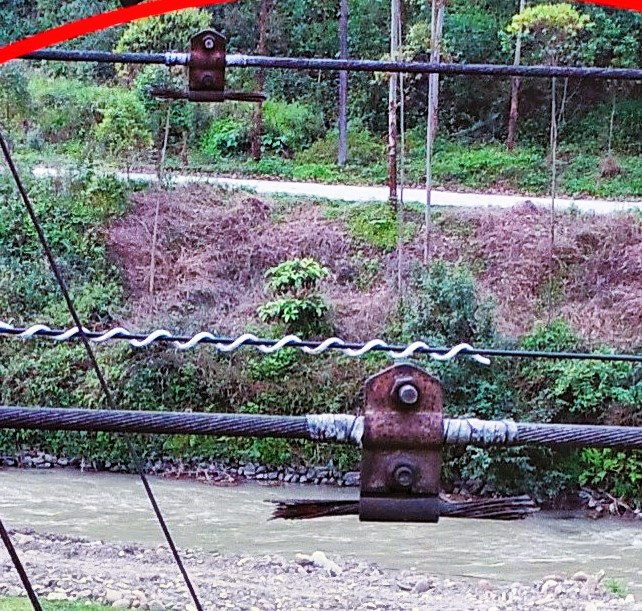Damage of shockproof hammer: (249, 349, 553, 531), (139, 20, 272, 118)
